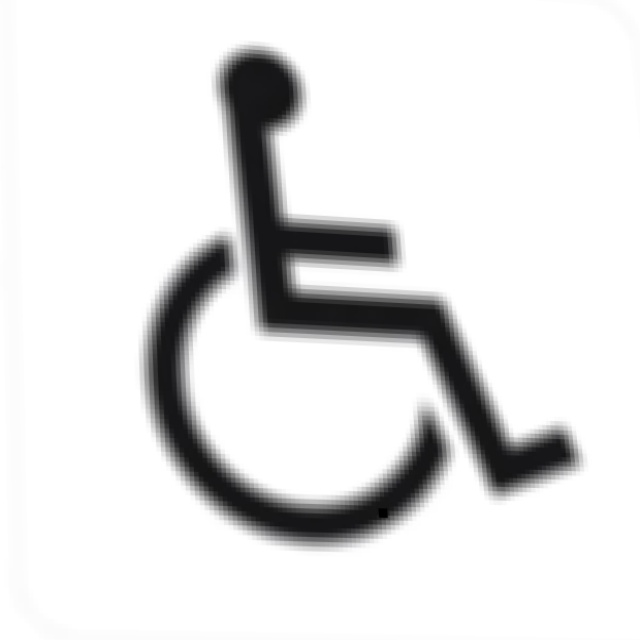ISA: (132, 34, 590, 557)
